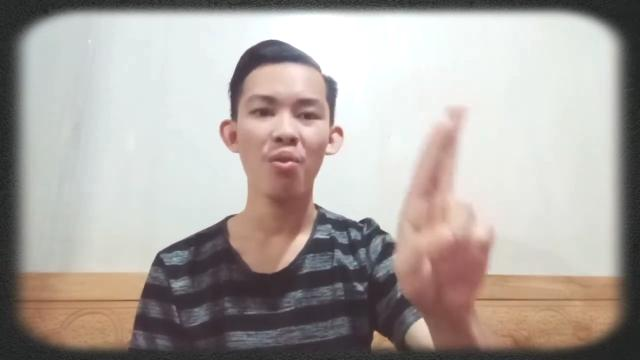U: (390, 100, 494, 306)
